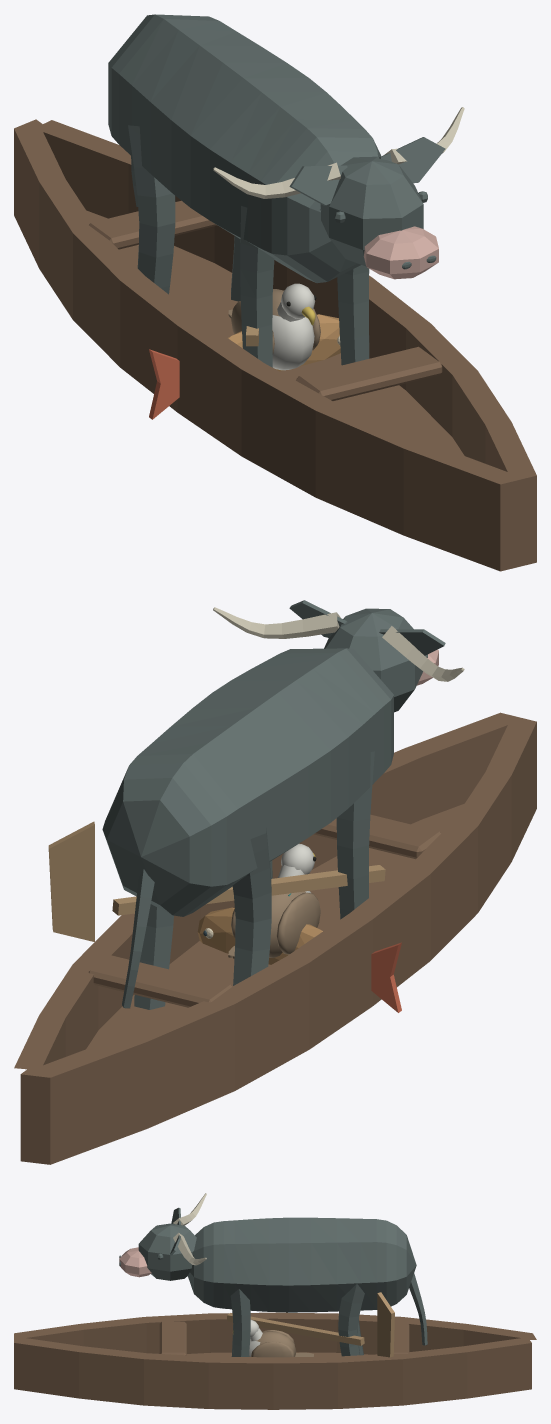
The picture shows the model from 3 angles, top to bottom: view 1: azimuth 30°, elevation 25°; view 2: azimuth 150°, elevation 25°; view 3: azimuth 270°, elevation 25°; orthographic projection. The views are drawn at different scales.
Visible parts, largest first — view 1: canoe, buffalo, osprey, carp; view 2: canoe, buffalo, osprey, carp; view 3: canoe, buffalo, osprey.
Part boxes in pixels (left/top/right/bottom): canoe: left=14, top=119, right=536, bottom=571; buffalo: left=108, top=14, right=464, bottom=367; osprey: left=228, top=283, right=320, bottom=370; carp: left=149, top=314, right=340, bottom=419; canoe: left=14, top=712, right=536, bottom=1164; buffalo: left=102, top=600, right=464, bottom=1009; osprey: left=228, top=843, right=320, bottom=958; carp: left=197, top=893, right=401, bottom=1012; canoe: left=14, top=1292, right=536, bottom=1409; buffalo: left=119, top=1193, right=427, bottom=1356; osprey: left=232, top=1319, right=313, bottom=1357.
Size of what is drawn, in the model's own units: 1.39 by 1.61 by 4.69.
